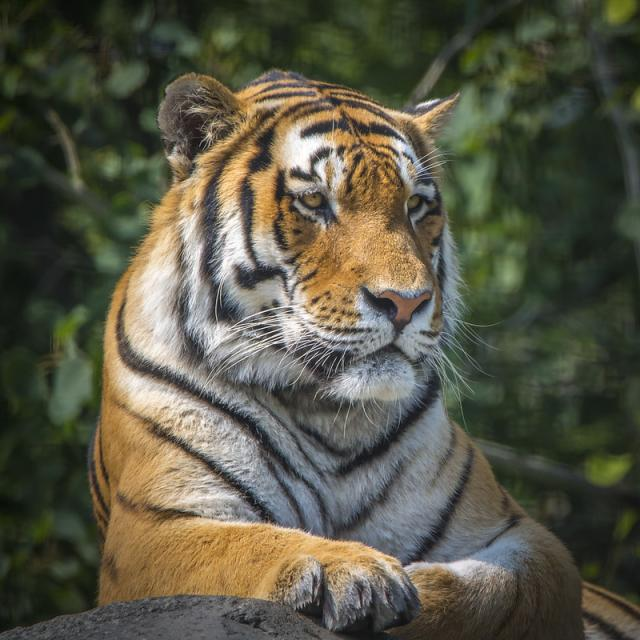Tiger: (82, 67, 618, 639)
